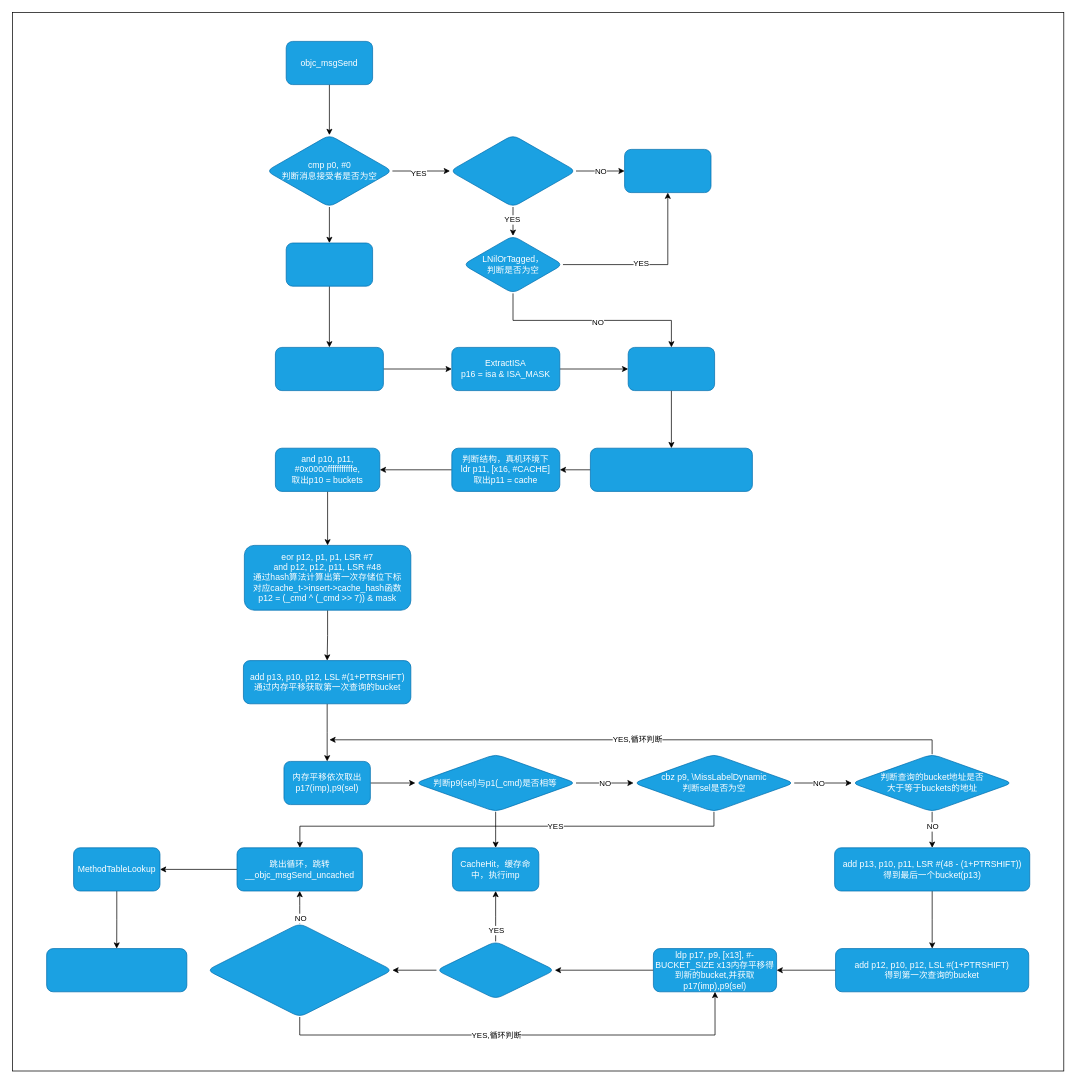
Image size: 1076x1084. Some labels were removed from this diagram. Each missing label, with the centre of its shape:
_lookUpImpOrForward 进入方法慢速查找流程: pixel 116 970
CacheLookup，开始缓存查找，参数依次为NORMAL, _objc_msgSend, __objc_msgSend_uncached: pixel 671 469
cmp p9, #0 ccmp p13, p12, #0, ne sel !=nil,并且当前比较的bucket地址大于 首次查询的bucket的地址: pixel 299 970
cmp p9, p1，比较 p9(sel),p1(_cmd): pixel 495 970
GetClassFromIsa_p16 参数分别为p13(isa),1,receiver: pixel 329 369
ldr p13, [x0],得到p13 = isa: pixel 329 264
LGetIsaDone: pixel 671 369
LReturnZero: pixel 667 171
判断是否支持taggedPointer: pixel 512 170
